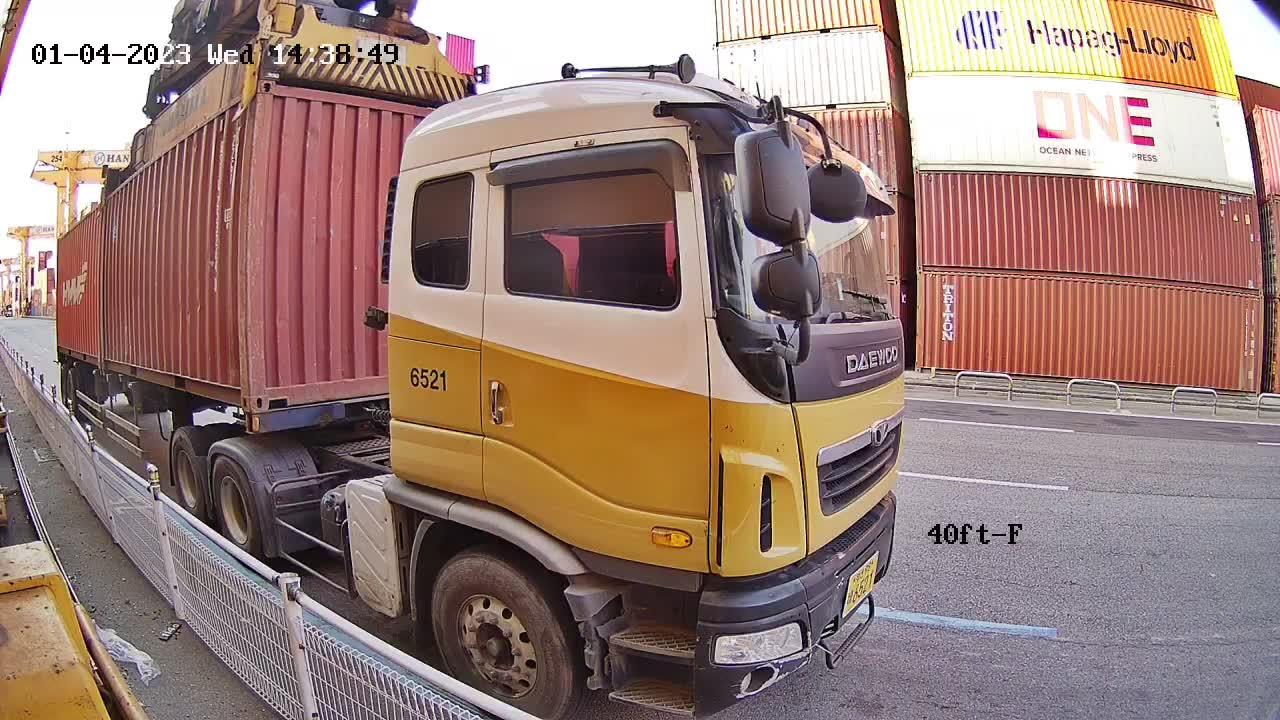Chassis: (244, 395, 389, 434)
Hole_L: (249, 371, 296, 412)
Hole_R: (225, 373, 252, 414)
Tire: (214, 459, 257, 551), (174, 430, 200, 512)
